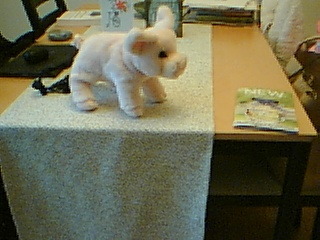piggy: (68, 4, 189, 119)
